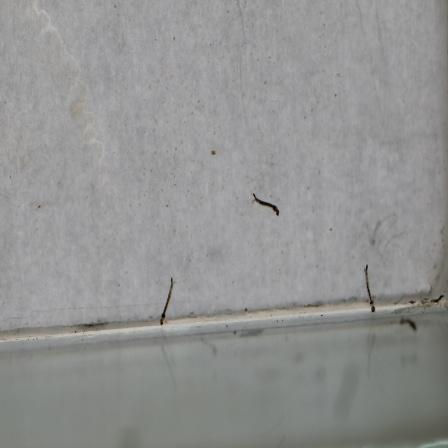Jentik-Nyamuk: (360, 262, 379, 317), (158, 275, 177, 329), (250, 192, 282, 220)
